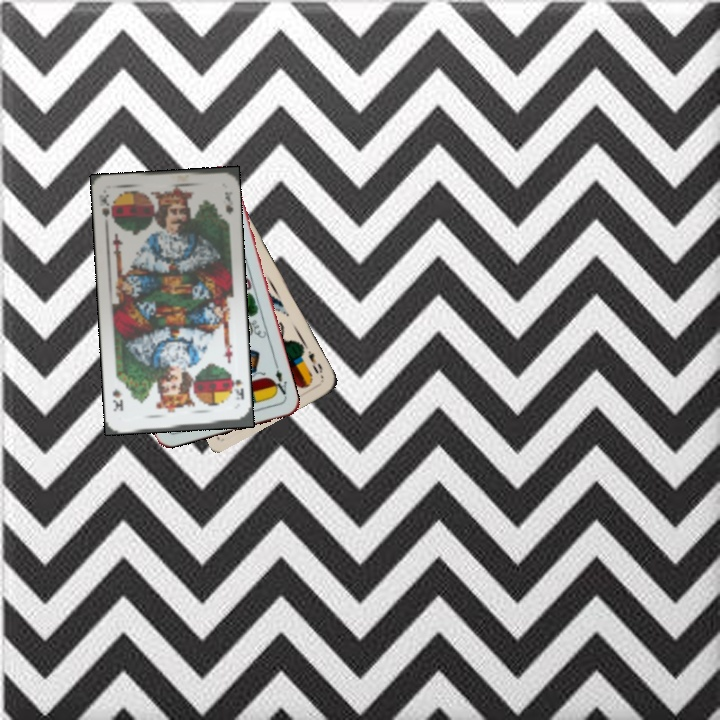EA: (268, 360, 289, 400)
EO: (304, 346, 325, 376)
SK: (98, 190, 116, 226), (227, 371, 247, 402)
